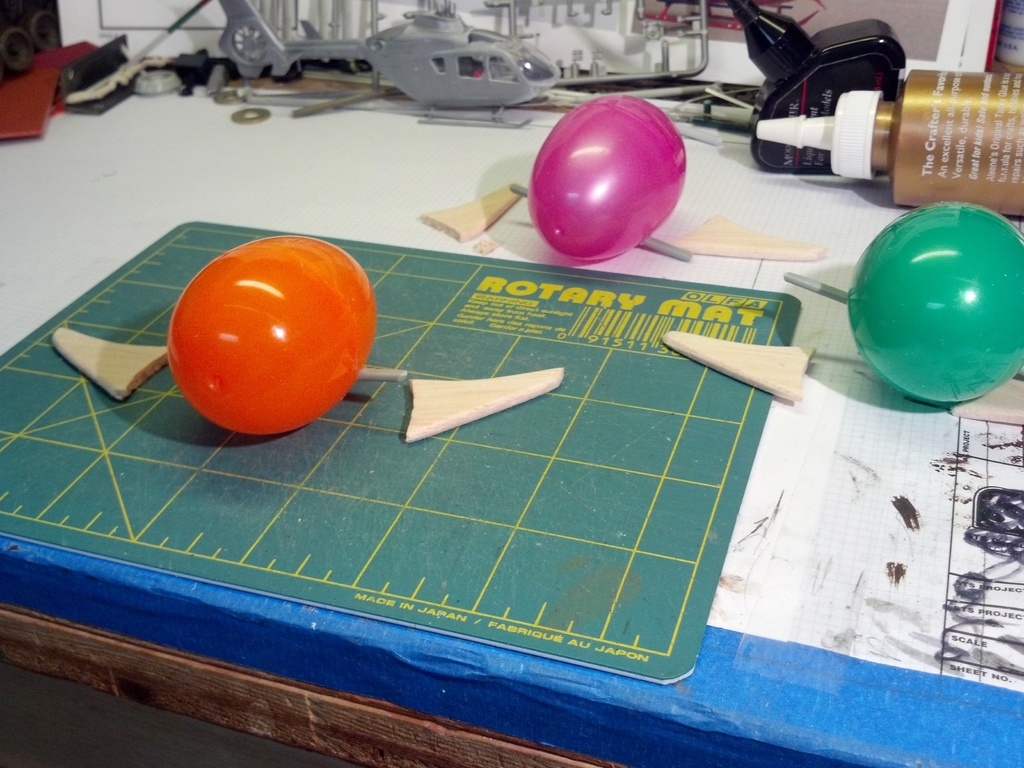Tomato: (153, 227, 380, 441)
